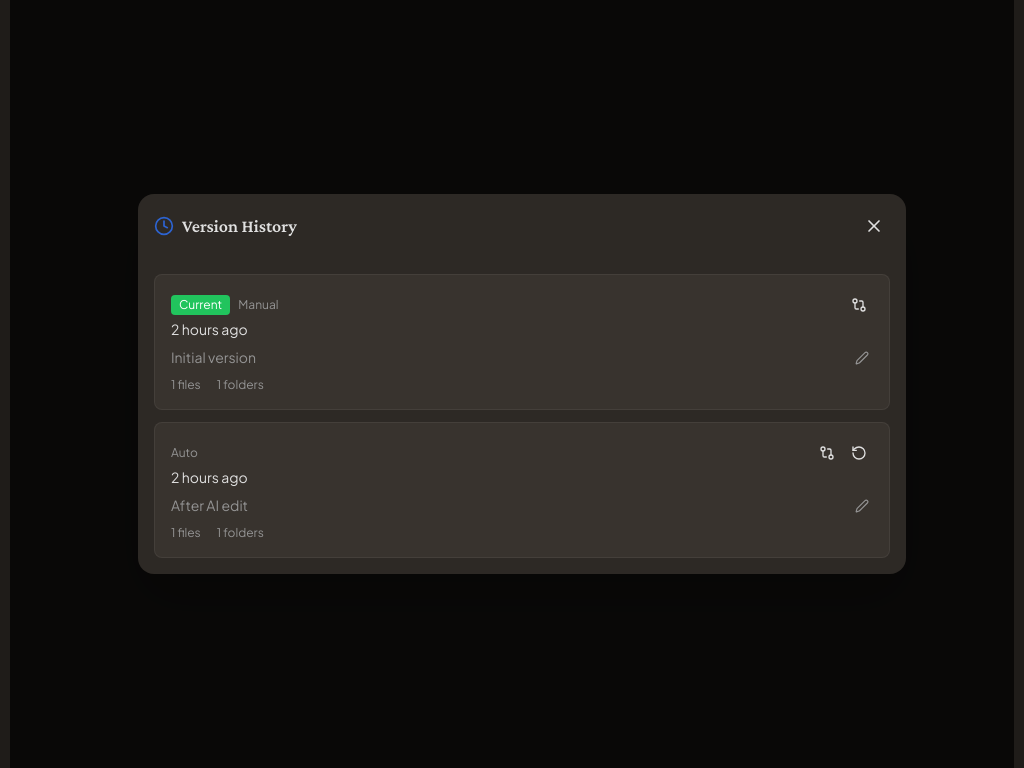
Scenario: VersionHistoryPanel › starts editing description
Expected: the text "Initial version" is shown, x1=171 y1=348 x2=256 y2=366
Click the button without text in the row of "Initial version".
click(862, 358)  # box x1=851 y1=347 x2=873 y2=369
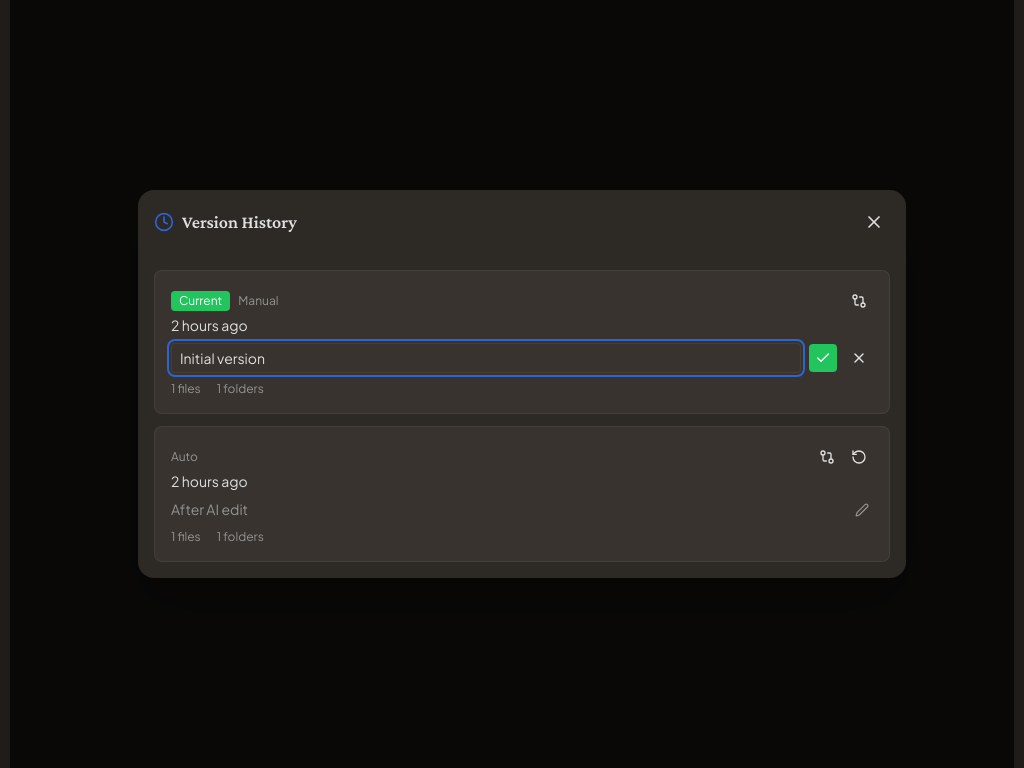
Expected: the field with placeholder "Add a description" is shown, x1=171 y1=343 x2=801 y2=373
